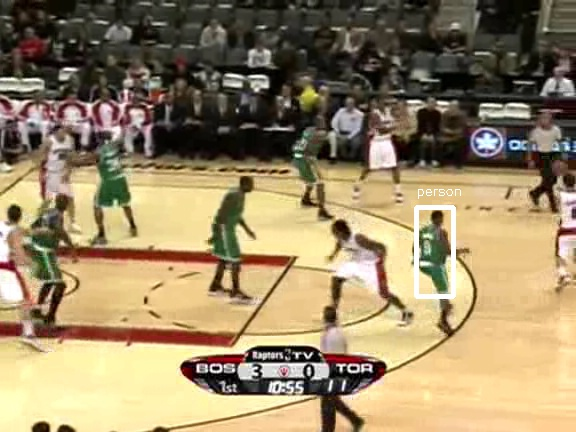person: (413, 220, 447, 301), (412, 220, 446, 301), (414, 220, 448, 301), (413, 219, 447, 300), (413, 221, 447, 302)
target_negative: (6, 333, 215, 414), (236, 301, 367, 383), (87, 99, 133, 299), (152, 200, 249, 236), (34, 145, 44, 194), (254, 425, 289, 427)
